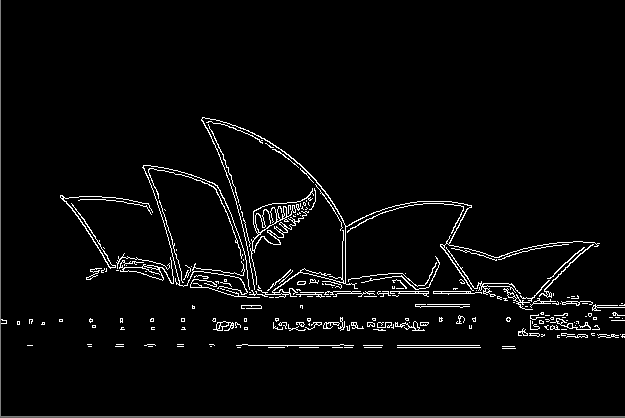opera house: (43, 114, 595, 308)
